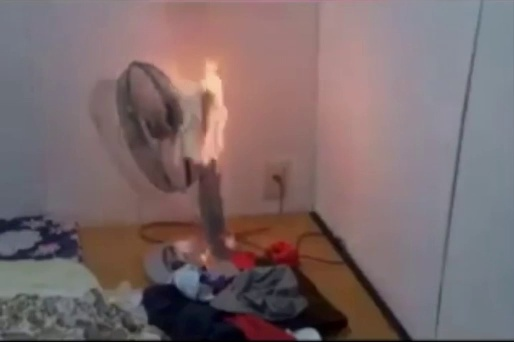fire: (178, 64, 231, 167)
